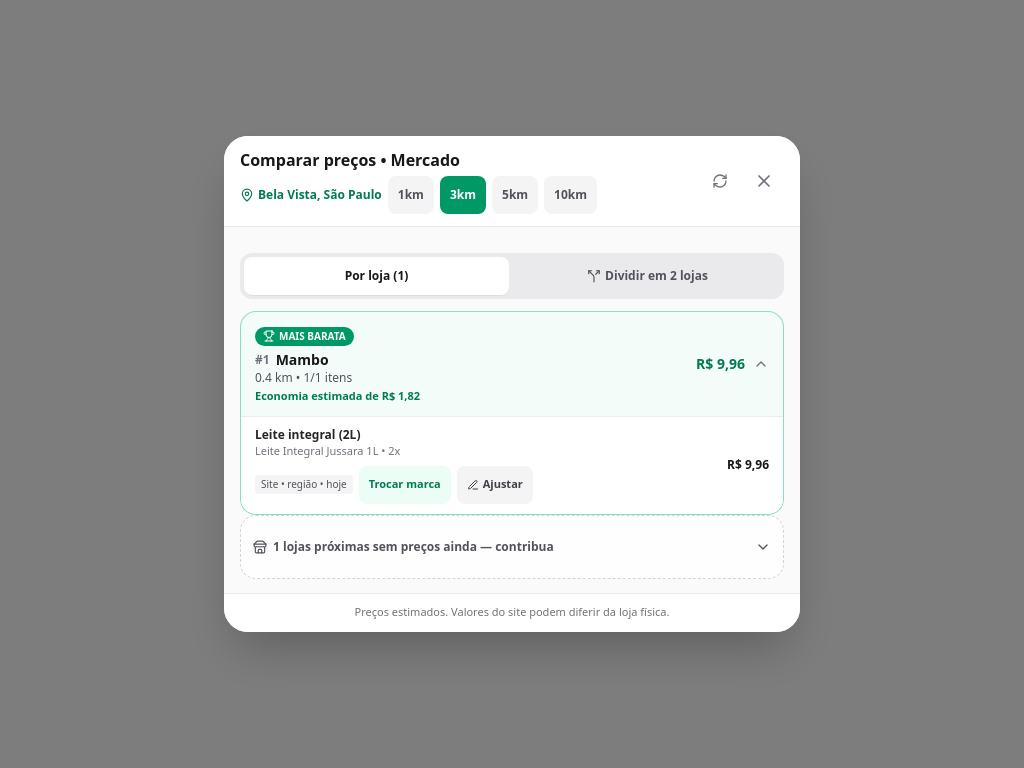
Test: PriceComparisonSheet › alterna para aba Dividir em 2 lojas
What coordinates should you click on to do the following:
click the tab "Dividir em 2 lojas"
I would click on:
 (648, 276)
Its box is [515, 257, 780, 295].
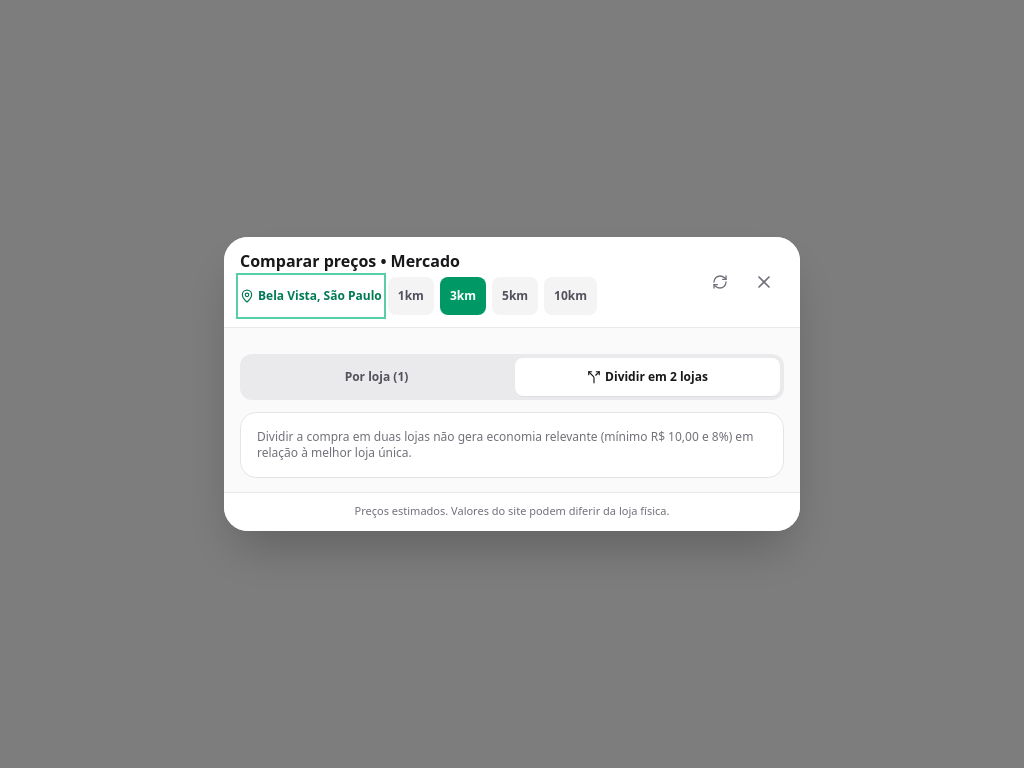
Check: the text "Dividir a compra em duas lojas não gera economia relevante" is shown, box [257, 428, 753, 461]
